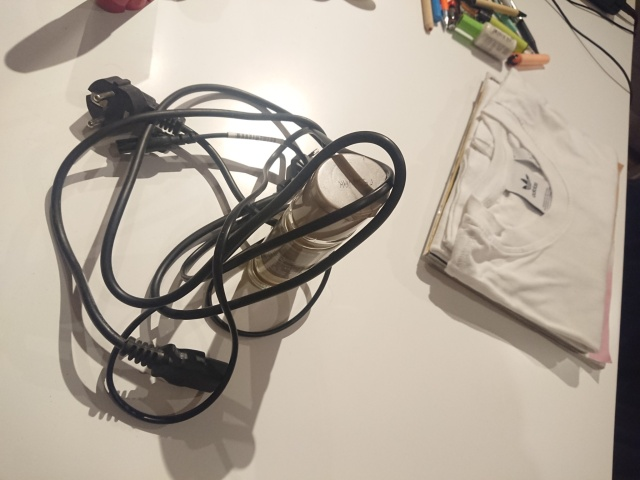Kotanyi Garlic Granules 70g: (244, 150, 392, 294)
